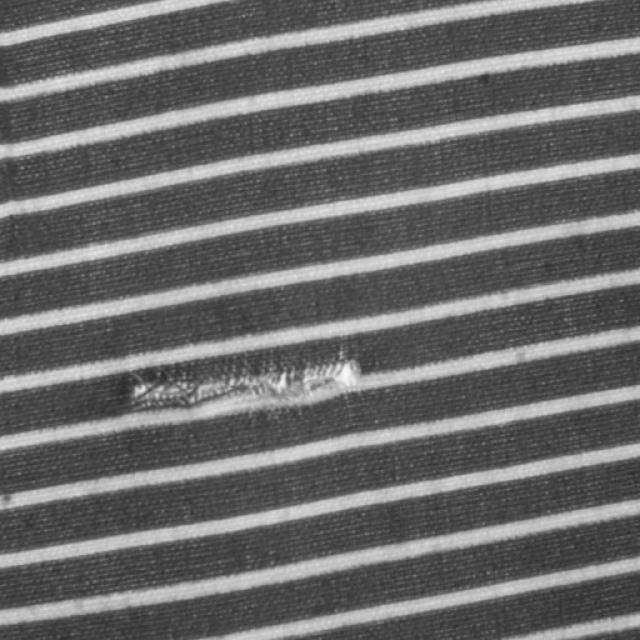Hole-Defect: (131, 359, 360, 409)
